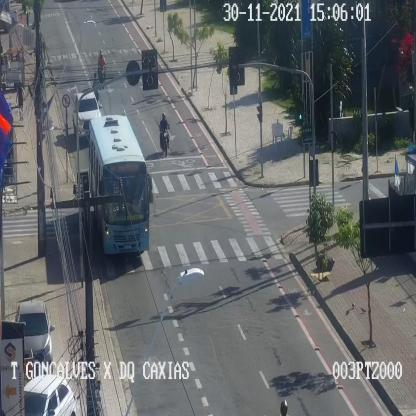bus: (88, 115, 150, 253)
car: (16, 301, 52, 372), (23, 374, 76, 416), (73, 91, 101, 135)
motorbike: (159, 112, 169, 156), (97, 49, 106, 89)
person: (16, 82, 24, 119), (92, 72, 100, 102)
